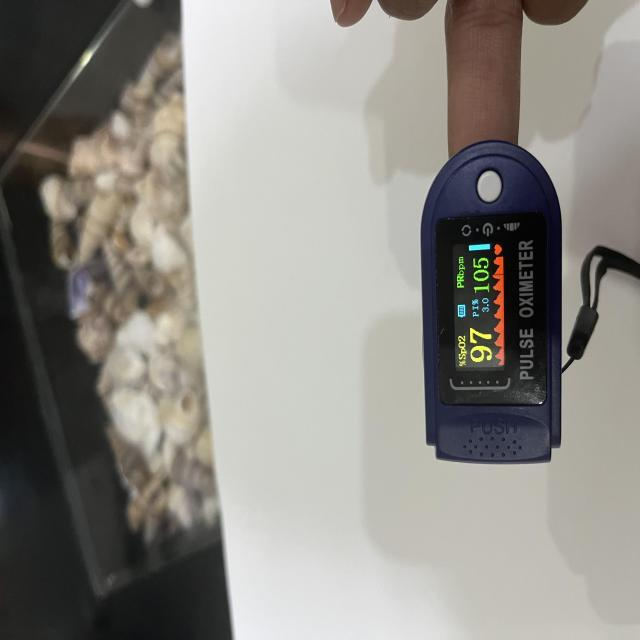spo2: (420, 141, 563, 466)
